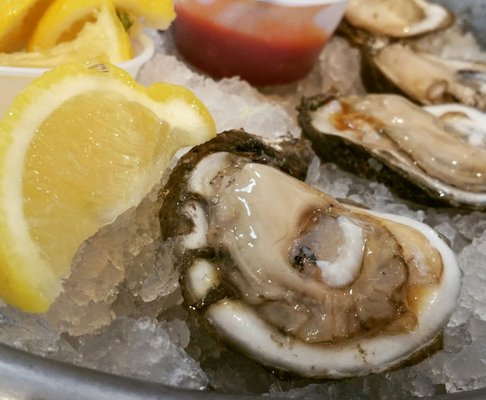sandwich: (2, 5, 481, 392)
